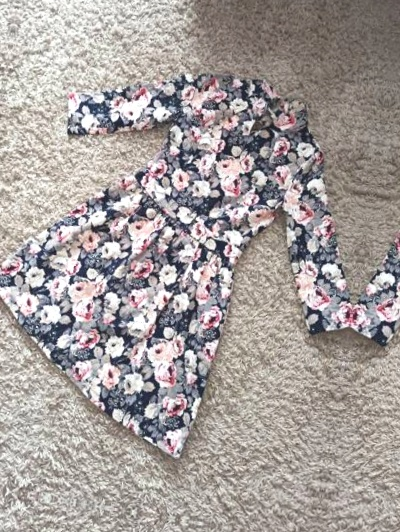Dress: (0, 12, 392, 490), (323, 73, 400, 532), (0, 0, 5, 426)
